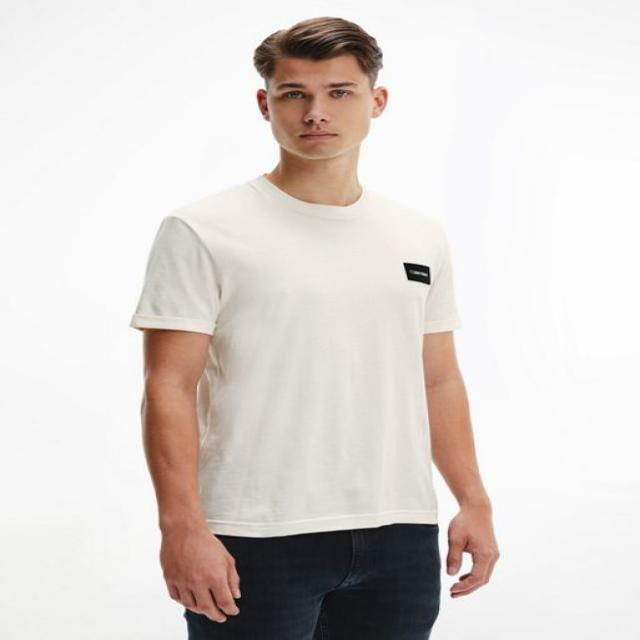tshirt: (129, 173, 464, 538)
